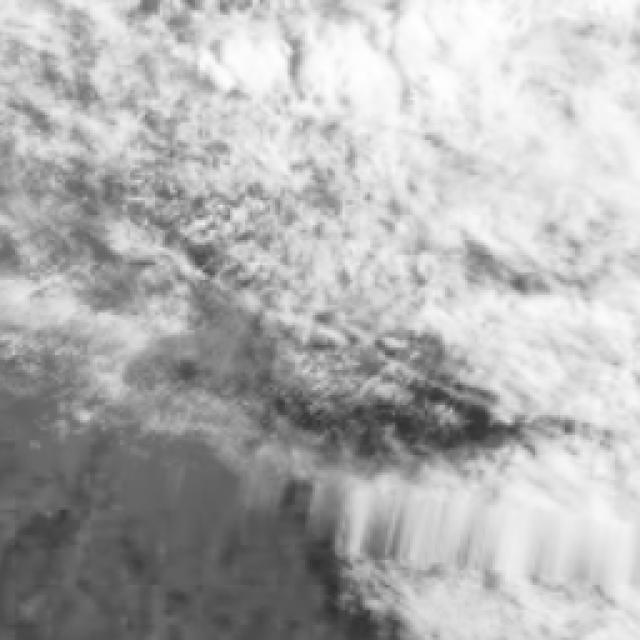CB: (322, 0, 640, 116)
